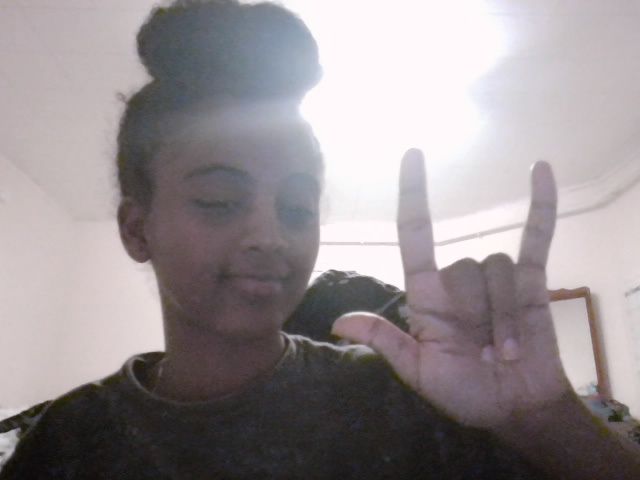ILoveYou: (328, 148, 587, 422)
